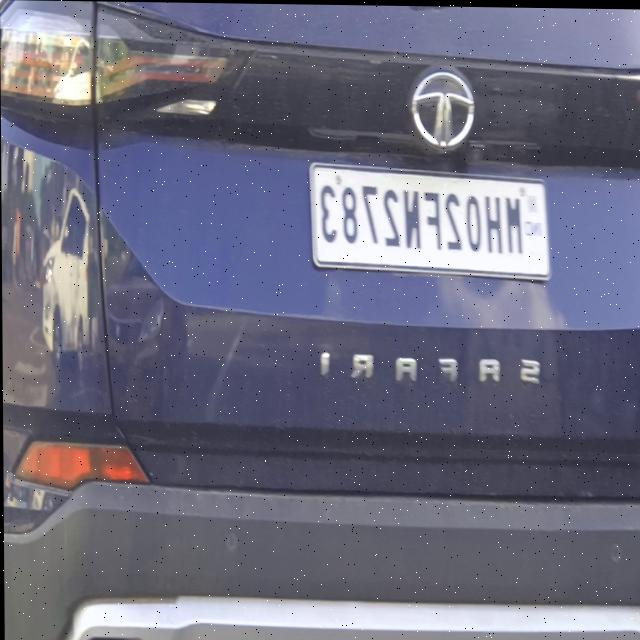plate: (306, 156, 550, 282)
